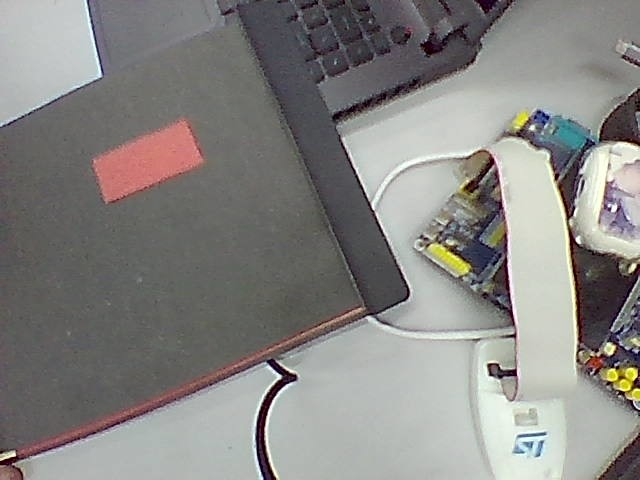card: (93, 118, 203, 203)
